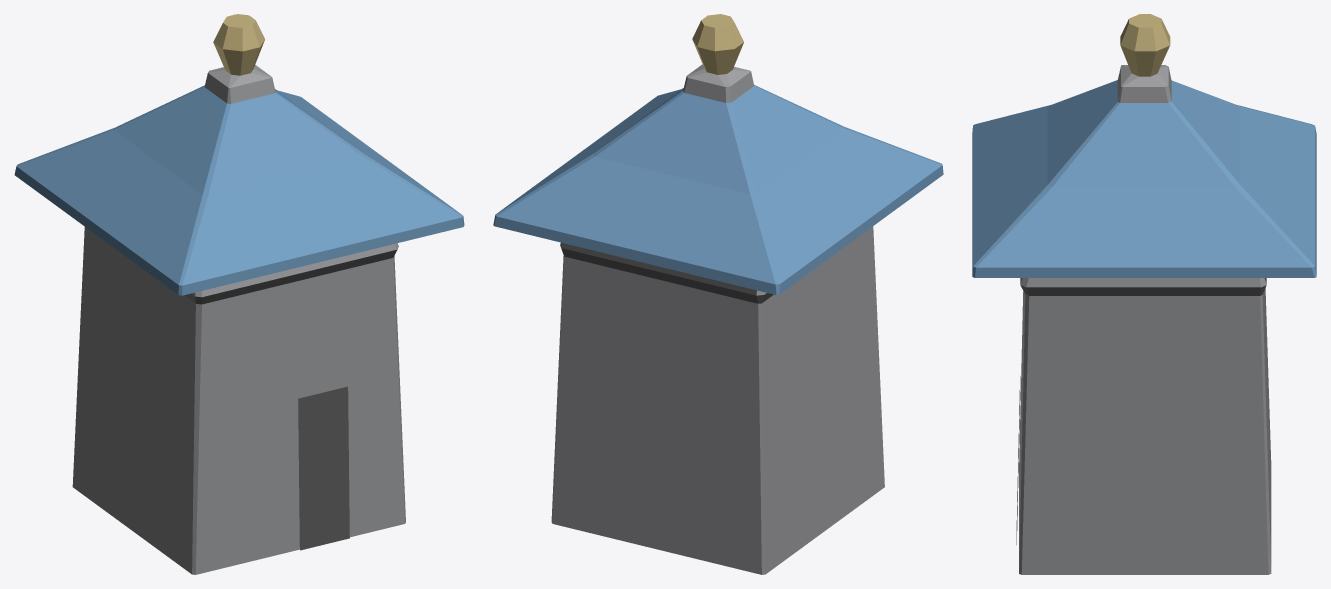
The model's file is loin.glb.
3 renders of one model, left to right at view 1: azimuth 30°, elevation 25°; view 2: azimuth 150°, elevation 25°; view 3: azimuth 270°, elevation 25°, orthographic. The views are drawn at different scales.
Parts seen in each view (by area): view 1: loin; view 2: loin; view 3: loin.
Part boxes in pixels (left/top/right/bottom): loin: left=14, top=14, right=464, bottom=574; loin: left=493, top=14, right=943, bottom=574; loin: left=972, top=14, right=1316, bottom=574.
Bounding box in the file's own units: 0.5773 × 0.9332 × 0.5827.
